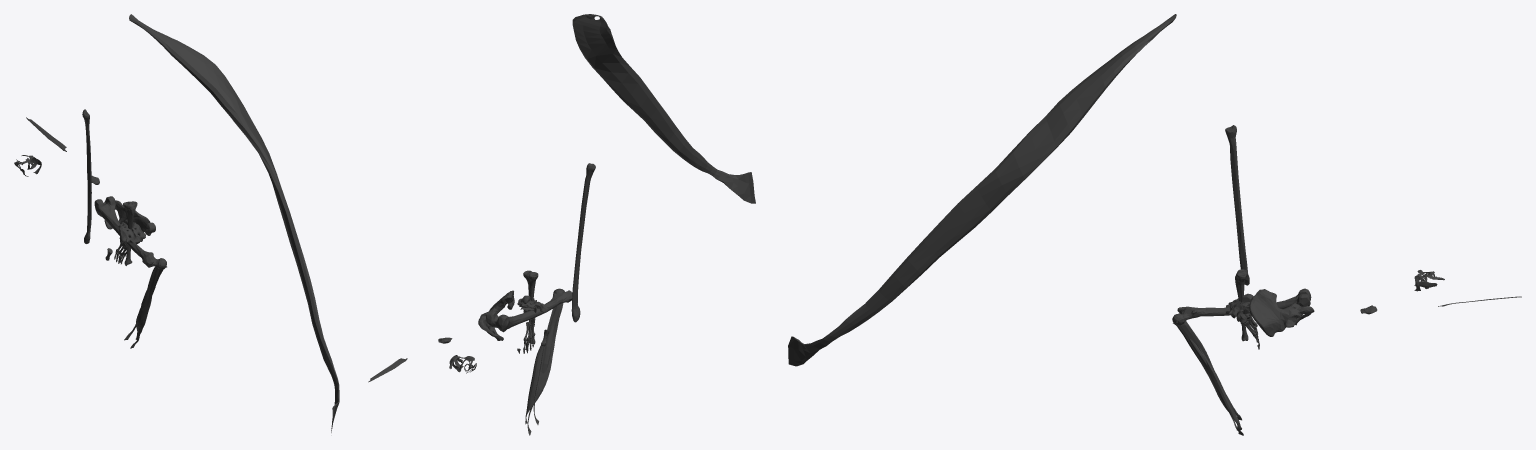
The model's file is sharedassets32.glb.
3 views of the same model, side by side, from view 1: azimuth 30°, elevation 25°; view 2: azimuth 150°, elevation 25°; view 3: azimuth 270°, elevation 25° (orthographic). The views are drawn at different scales.
Parts seen in each view (by area): view 1: 0045_Sartorius, R__1000361, 0011_Femur _thigh_, R__000930, 0012_Fibula _leg_, R__000928, 0050_S01-05 Sacrum__001242, 0046_Semimembranosus, R__1000369; view 2: 0045_Sartorius, R__1000361, 0046_Semimembranosus, R__1000369, 0012_Fibula _leg_, R__000928, 0011_Femur _thigh_, R__000930; view 3: 0045_Sartorius, R__1000361, 0081_Fibula _leg_, L__000922, 0044_Ilium, R__001012, 0082_Femur _thigh_, L_male_000854.
Boxes of the visible parts, box(x1,y1,x2,y2) form: 0045_Sartorius, R__1000361: box(129, 14, 339, 432); 0011_Femur _thigh_, R__000930: box(94, 197, 166, 269); 0012_Fibula _leg_, R__000928: box(82, 109, 91, 243); 0050_S01-05 Sacrum__001242: box(118, 222, 145, 243); 0046_Semimembranosus, R__1000369: box(135, 266, 156, 339); 0045_Sartorius, R__1000361: box(572, 14, 755, 203); 0046_Semimembranosus, R__1000369: box(525, 303, 561, 424); 0012_Fibula _leg_, R__000928: box(571, 163, 595, 322); 0011_Femur _thigh_, R__000930: box(491, 288, 572, 332); 0045_Sartorius, R__1000361: box(788, 14, 1176, 366); 0081_Fibula _leg_, L__000922: box(1226, 125, 1249, 285); 0044_Ilium, R__001012: box(1249, 289, 1289, 336); 0082_Femur _thigh_, L_male_000854: box(1173, 289, 1311, 325).
Size of the model in its own units: 0.2175 by 0.7989 by 1.31.
1 material, 1 textured.
